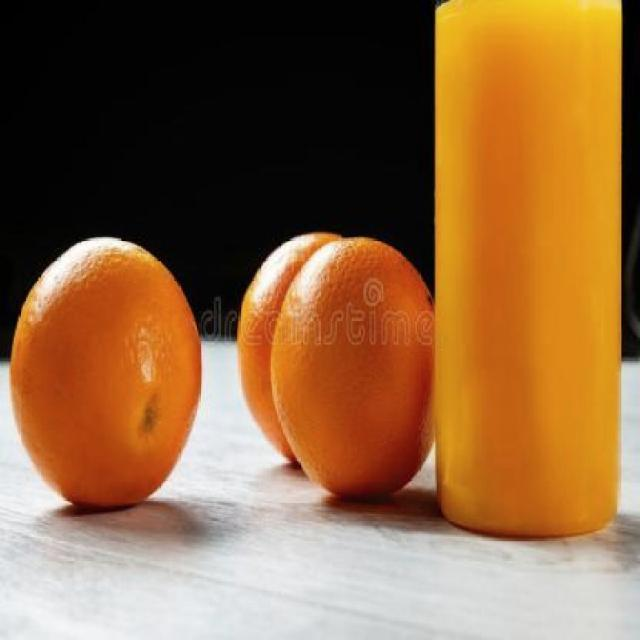Jeruk Sudah Matang: (9, 238, 203, 514), (269, 235, 440, 503), (234, 224, 372, 483)
